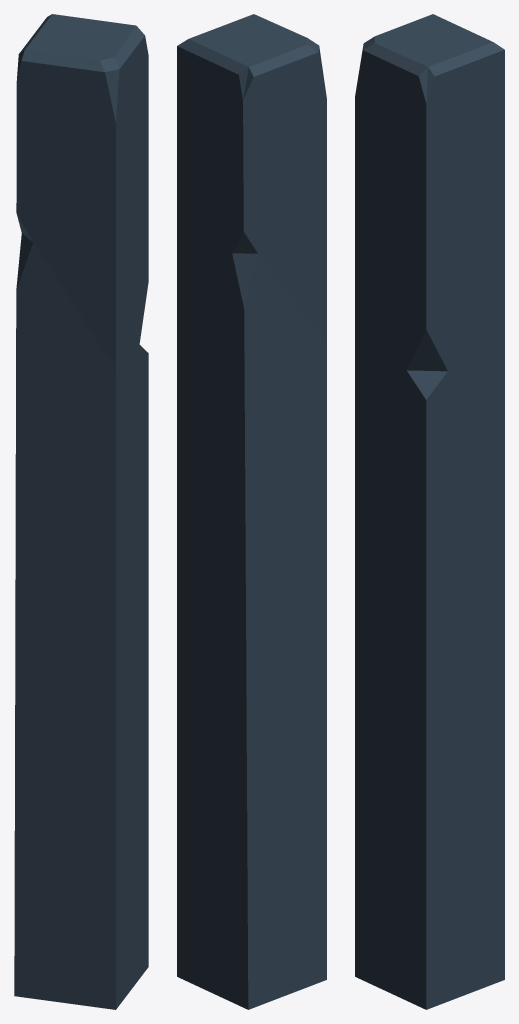
The model's file is Pillar_Trick.fbx.
The picture shows the model from 3 angles, left to right: view 1: azimuth 90°, elevation 25°; view 2: azimuth 150°, elevation 25°; view 3: azimuth 330°, elevation 25°; orthographic projection.
Parts seen in each view (by area): view 1: 立方体.065; view 2: 立方体.065; view 3: 立方体.065.
Boxes of the visible parts, x1=… form: 立方体.065: x1=14, y1=14, x2=148, y2=1009; 立方体.065: x1=177, y1=14, x2=326, y2=1009; 立方体.065: x1=355, y1=14, x2=504, y2=1009.
Bounding box in the file's own units: 274 × 274 × 2128.
